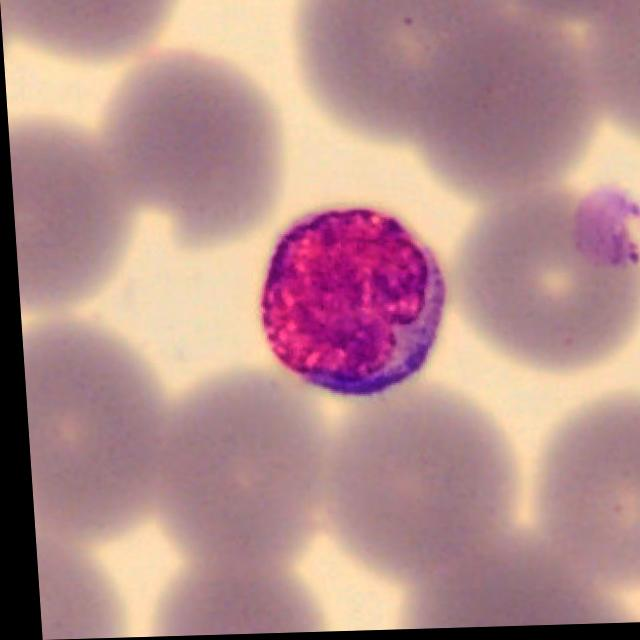Linfocito: (254, 207, 442, 396)
